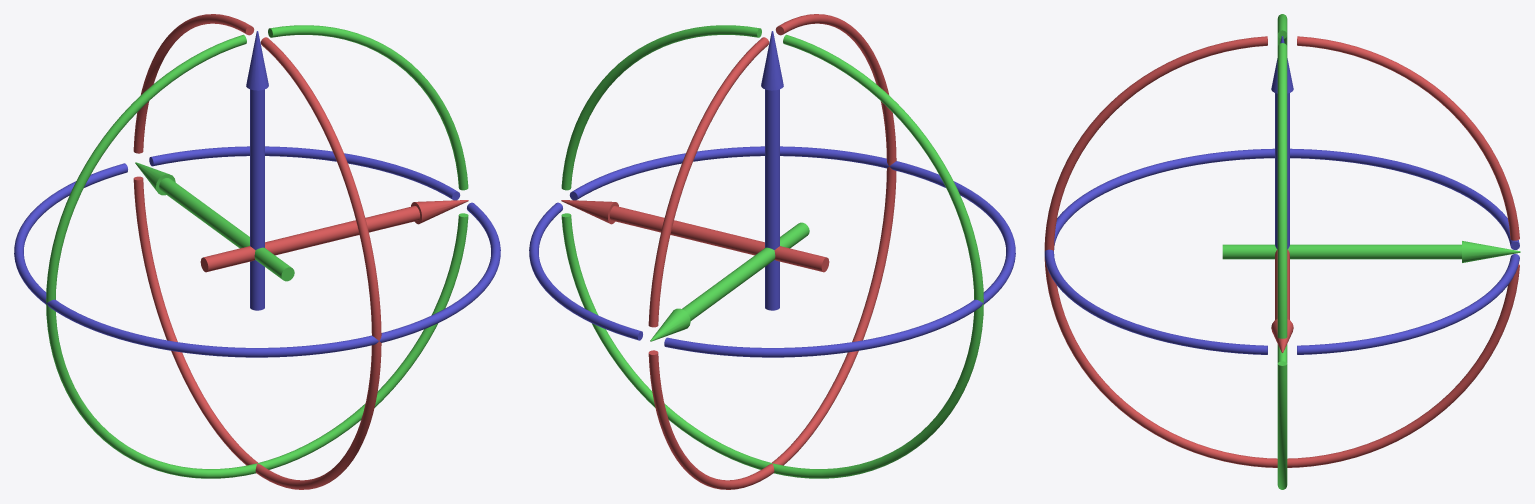
File: utility_pivot_orb_med.game.fbx
The picture shows the model from 3 angles, left to right: view 1: azimuth 30°, elevation 25°; view 2: azimuth 150°, elevation 25°; view 3: azimuth 270°, elevation 25°; orthographic projection. The views are drawn at different scales.
Visible parts, largest first — view 1: polySurface1, polySurface4, polySurface5; view 2: polySurface1, polySurface4, polySurface5; view 3: polySurface4, polySurface5, polySurface1.
Boxes of the visible parts, left/top/right/bottom form: polySurface1: left=46, top=25, right=468, bottom=478; polySurface4: left=133, top=14, right=468, bottom=489; polySurface5: left=14, top=31, right=500, bottom=357; polySurface1: left=561, top=25, right=983, bottom=478; polySurface4: left=561, top=14, right=896, bottom=489; polySurface5: left=529, top=31, right=1015, bottom=357; polySurface4: left=1044, top=36, right=1519, bottom=467; polySurface5: left=1044, top=36, right=1519, bottom=354; polySurface1: left=1222, top=14, right=1520, bottom=489.
Size of the model in its own units: 0.02 by 0.02 by 0.02.
